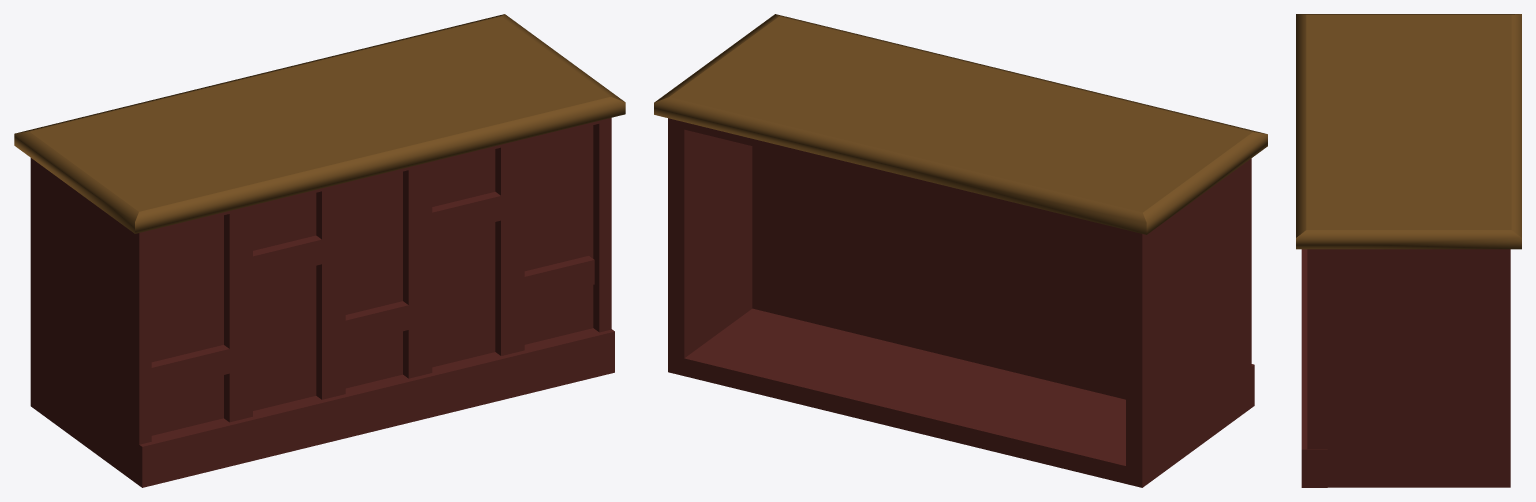
Rendered from mesa.fbx.
The picture shows the model from 3 angles, left to right: view 1: azimuth 30°, elevation 25°; view 2: azimuth 150°, elevation 25°; view 3: azimuth 270°, elevation 25°; orthographic projection. The views are drawn at different scales.
Parts seen in each view (by area): view 1: Mesa; view 2: Mesa; view 3: Mesa.
Part boxes in pixels (box(x1,y1,x2,y2)): Mesa: box(14, 14, 625, 487); Mesa: box(654, 14, 1267, 487); Mesa: box(1296, 14, 1521, 487).
Size of the model in its own units: 181 by 96.94 by 77.23.
